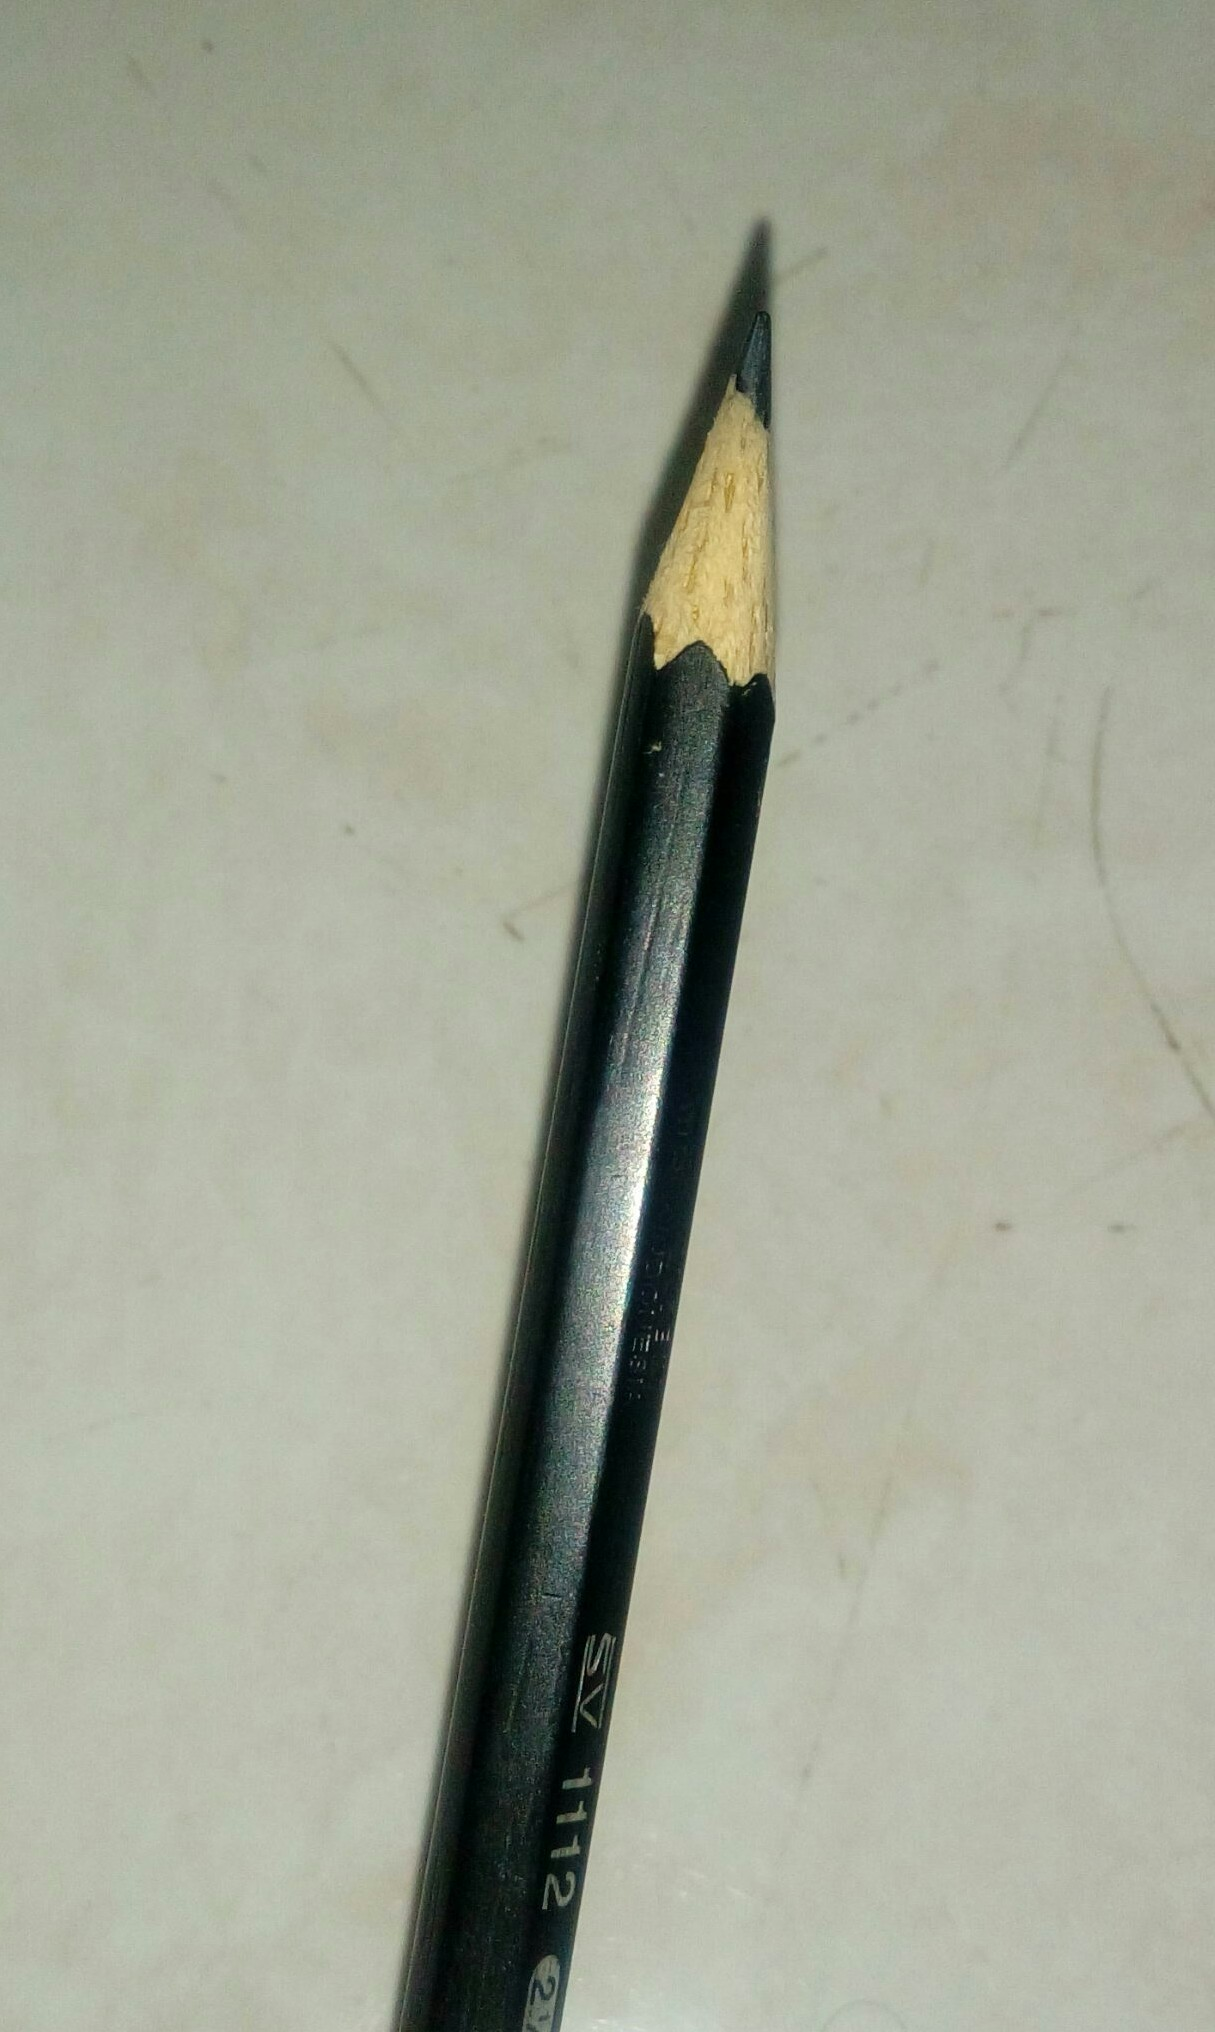pen_tip: (531, 272, 1014, 732)
